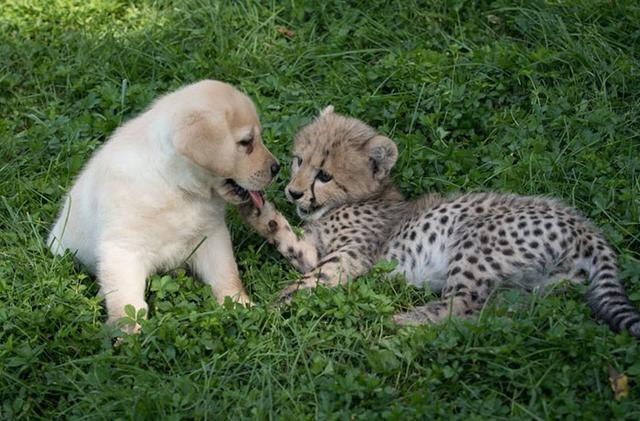cat: (268, 98, 633, 350)
dog: (52, 69, 274, 334)
